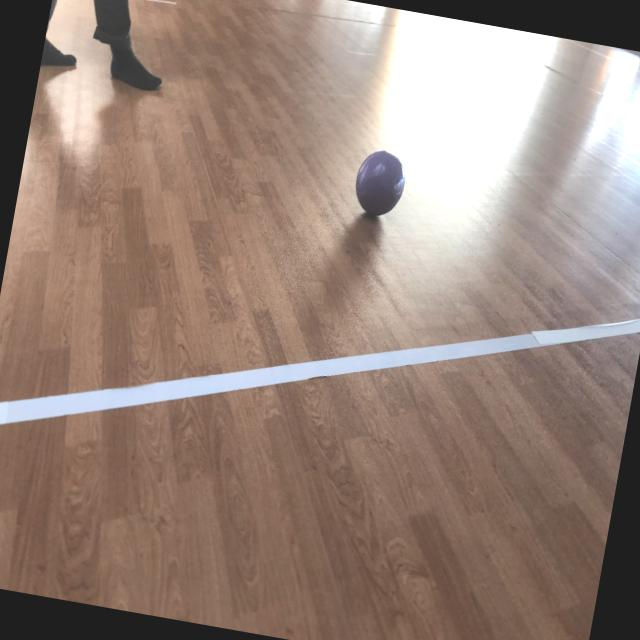purple_ball: (349, 144, 409, 218)
